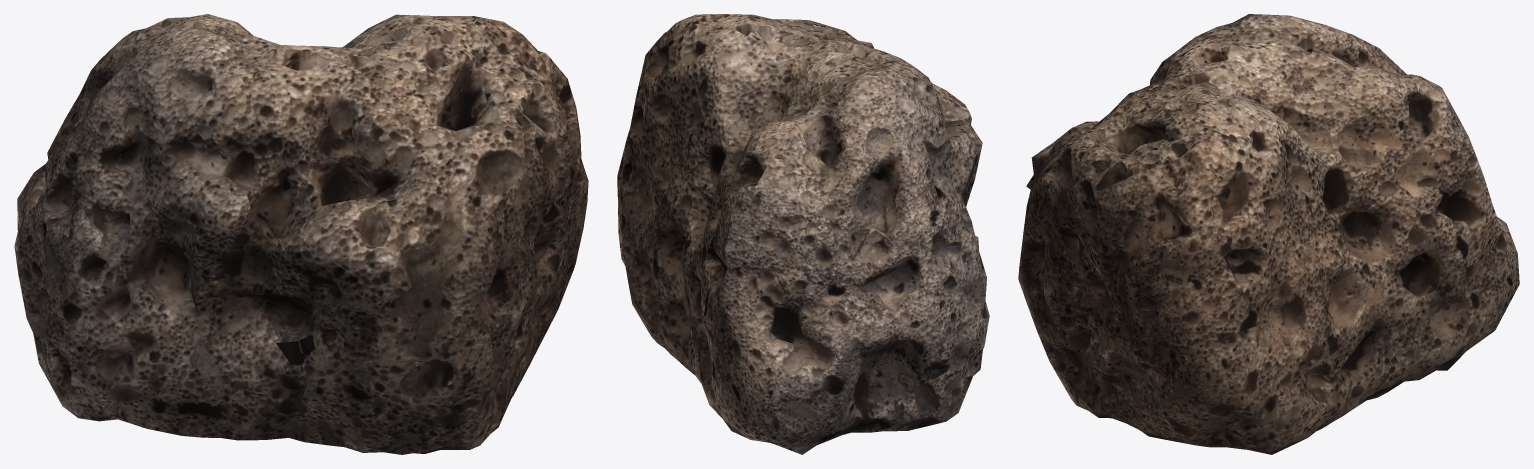
The model's file is rock-scoria-boulder.glb.
The picture shows the model from 3 angles, left to right: view 1: azimuth 30°, elevation 25°; view 2: azimuth 150°, elevation 25°; view 3: azimuth 270°, elevation 25°; orthographic projection. The views are drawn at different scales.
Parts seen in each view (by area): view 1: rock-scoria-boulder_LOD0; view 2: rock-scoria-boulder_LOD0; view 3: rock-scoria-boulder_LOD0.
Boxes of the visible parts, x1,y1,x2,y2 form: rock-scoria-boulder_LOD0: (14,14,588,454); rock-scoria-boulder_LOD0: (617,14,989,454); rock-scoria-boulder_LOD0: (1018,14,1519,454).
Size of what is drawn, in the model's own units: 1.53 by 1.13 by 1.6.
1 material, 1 textured.
